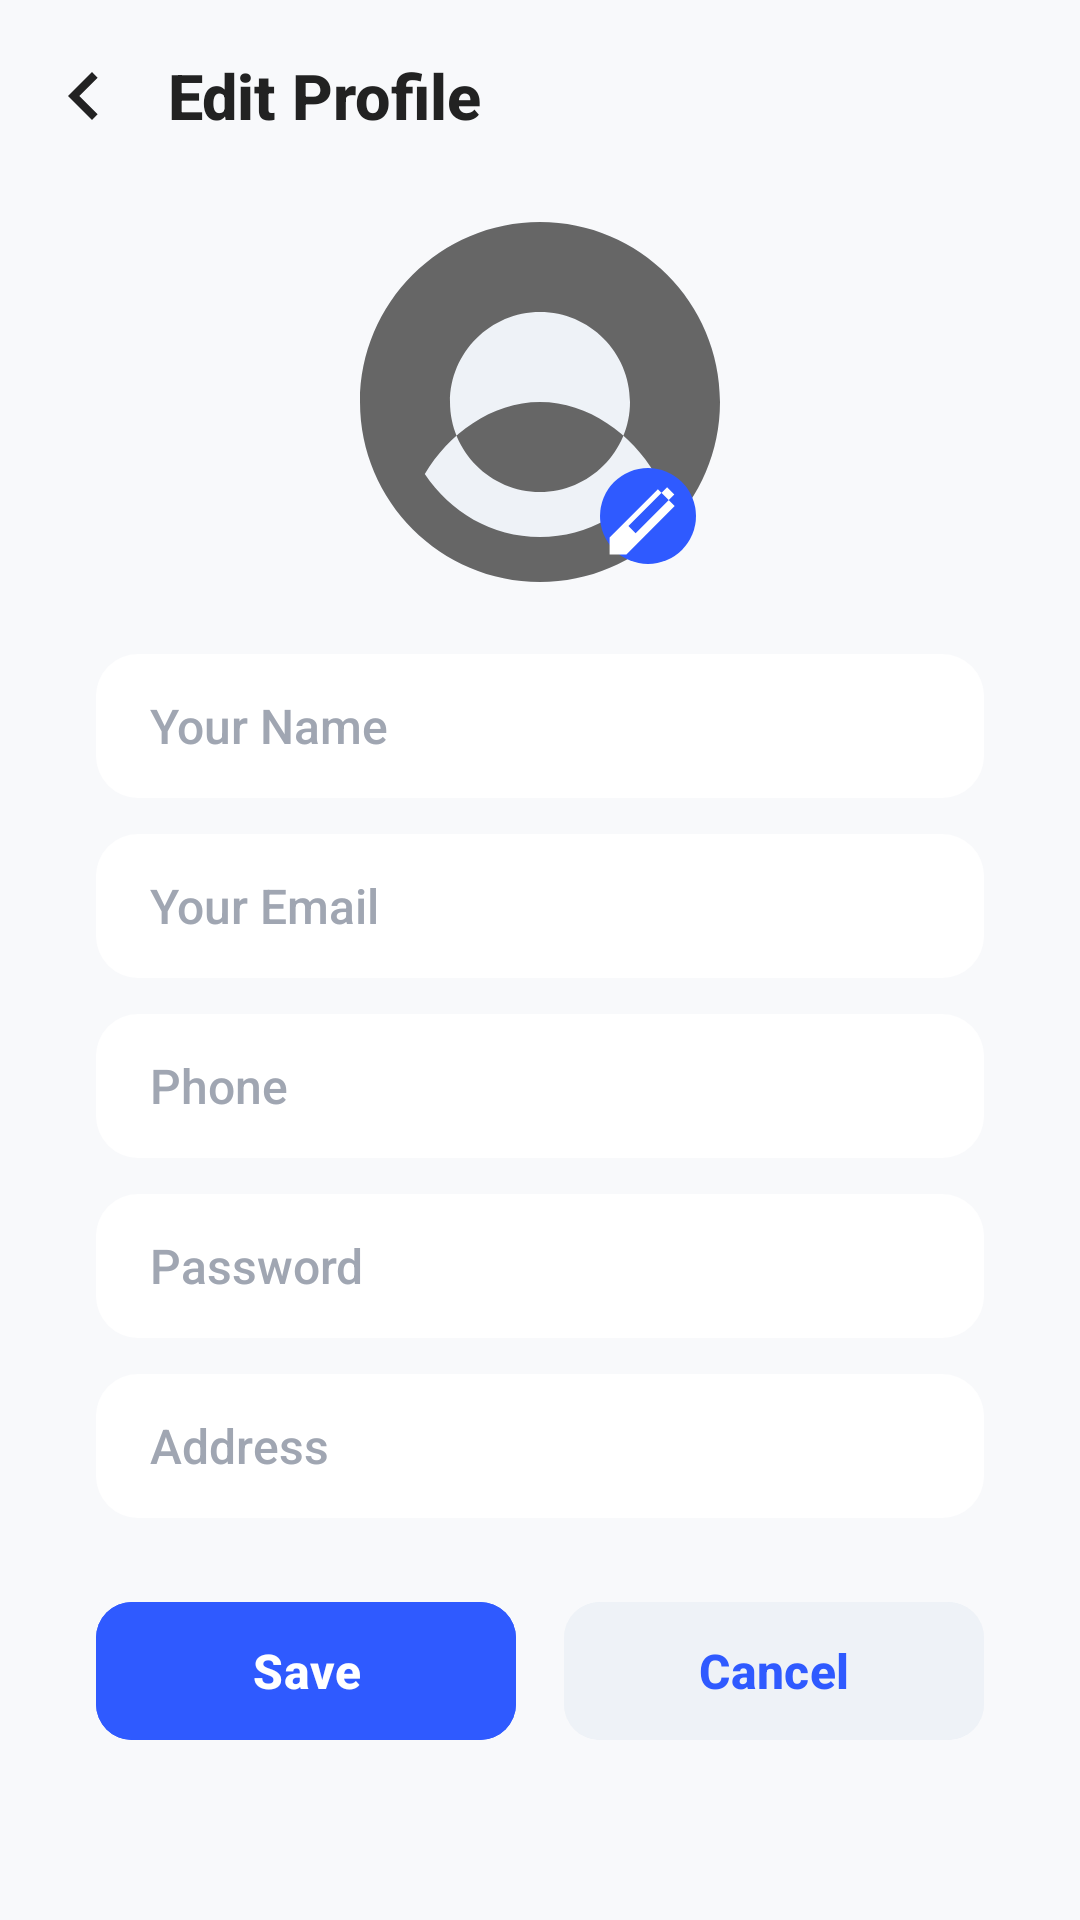

Named icons in this screenshot (1080x1920) and their bounding boxes, (x1, y1, x2, y2):
Back: (68, 72, 98, 120)
